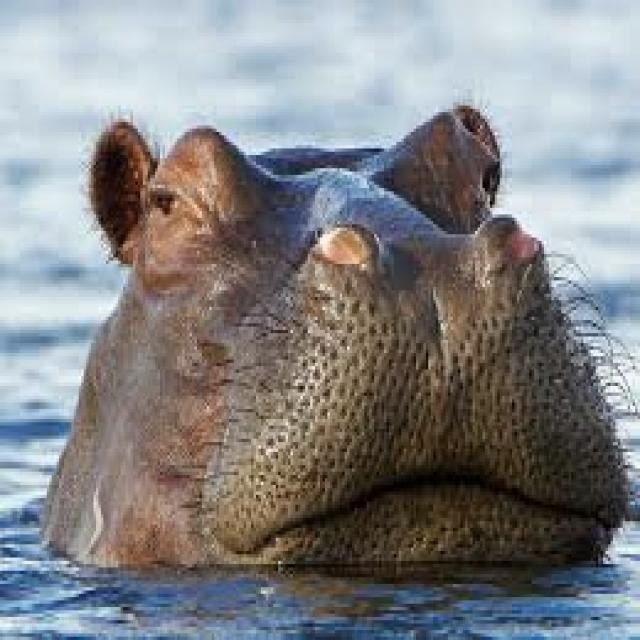hippopotamus: (44, 106, 628, 574)
